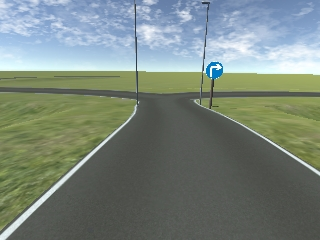right: (206, 62, 223, 79)
